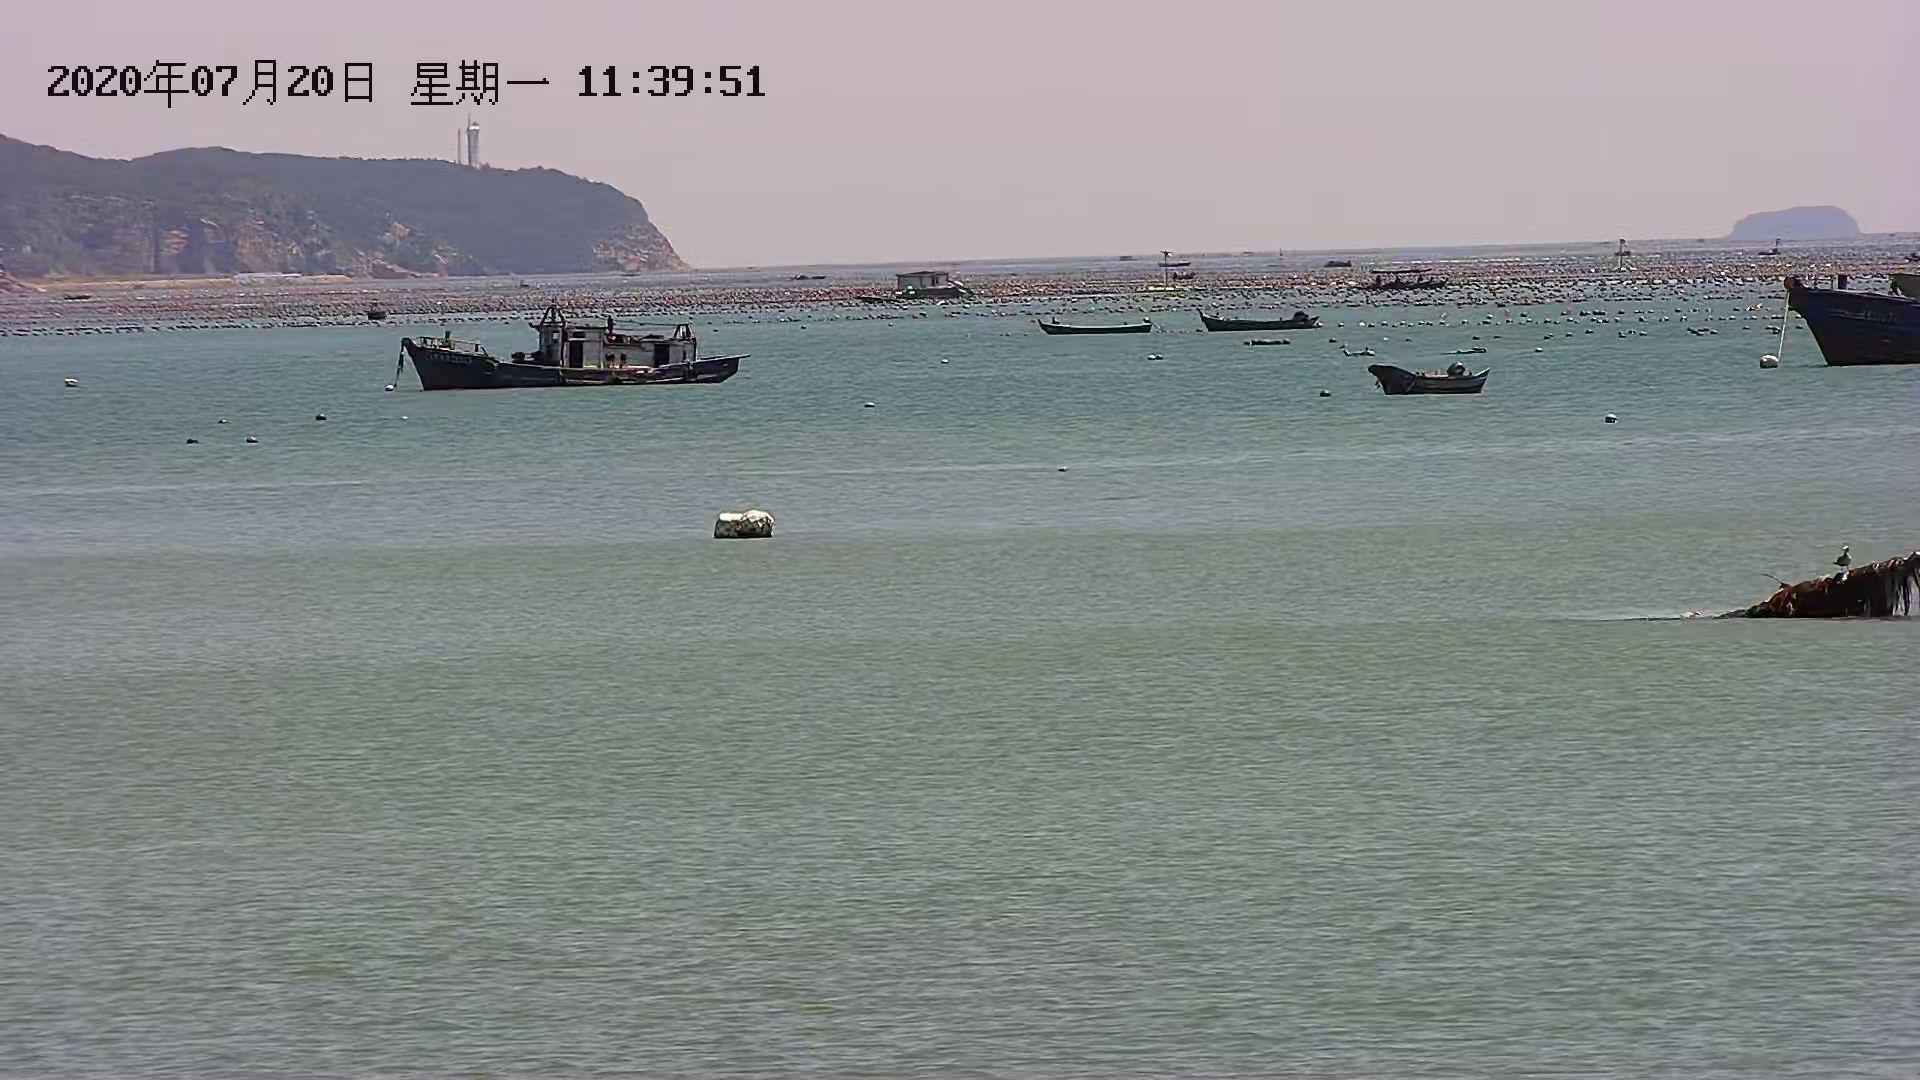ball: (711, 495, 778, 543)
boat: (377, 313, 760, 398), (1778, 258, 1920, 359), (1369, 351, 1501, 400), (1195, 299, 1328, 336), (1036, 316, 1164, 339)
platform: (880, 272, 986, 306)
rubbish: (1735, 530, 1920, 620)
